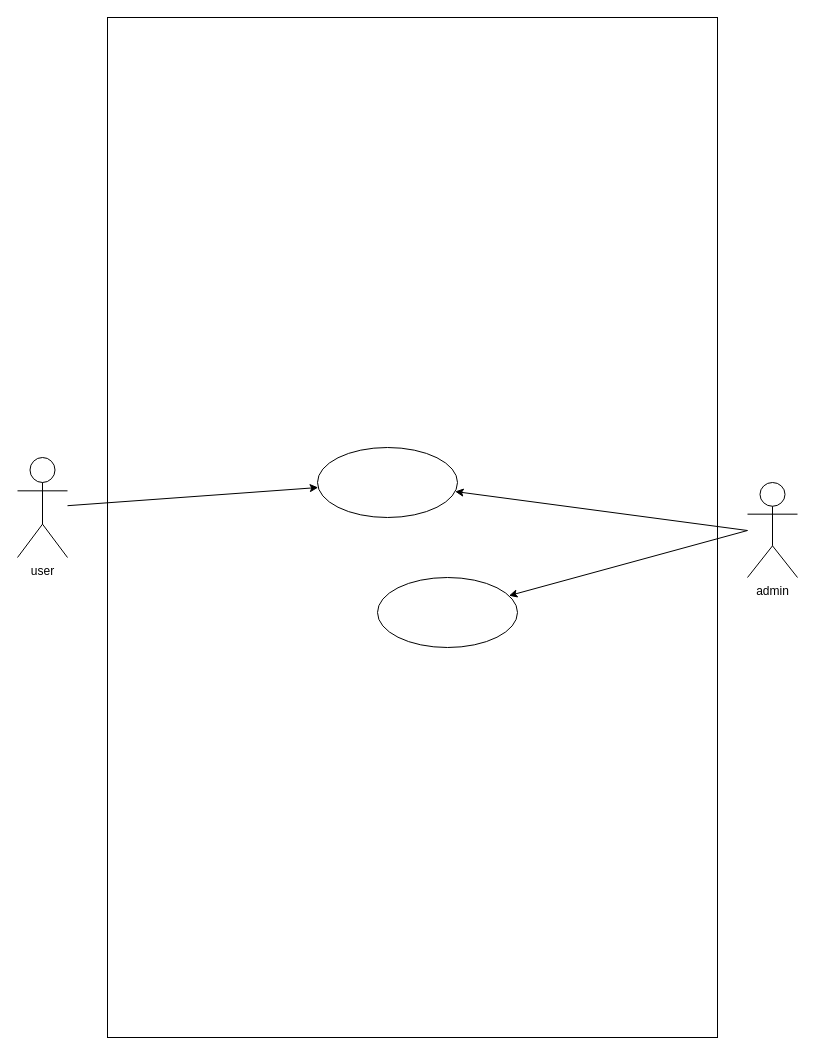
Image size: 815x1055. Some labels were removed from this diagram. Here are the shapes that lost their labels. From the top down, the box of each, then its label:
(316, 446, 458, 518): Scrape News
(376, 576, 518, 648): Add News
